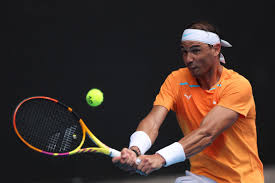tennis racket: (10, 95, 152, 171)
